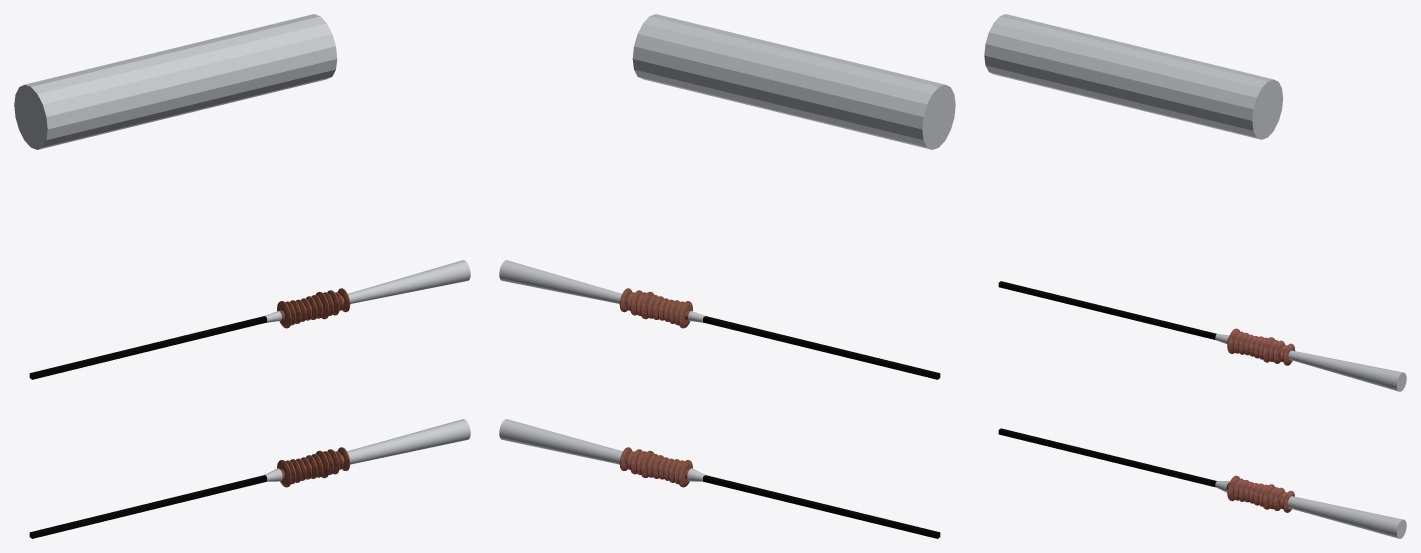
The model's file is moretop_-1.obj.
3 views of the same model, side by side, from view 1: azimuth 30°, elevation 25°; view 2: azimuth 150°, elevation 25°; view 3: azimuth 330°, elevation 25° (orthographic). The views are drawn at different scales.
Parts seen in each view (by area): view 1: zd, chain.002, chain.001; view 2: zd, chain.002, chain.001; view 3: zd, chain.002, chain.001.
Part boxes in pixels (<box>): zd: <box>14,14,337,149</box>; chain.002: <box>264,260,470,487</box>; chain.001: <box>29,316,266,538</box>; zd: <box>632,14,955,149</box>; chain.002: <box>499,260,705,487</box>; chain.001: <box>703,316,940,538</box>; zd: <box>984,14,1283,139</box>; chain.002: <box>1215,328,1406,538</box>; chain.001: <box>998,281,1228,489</box>.
Size of the model in its own units: 3 by 3.04 by 0.4.
Materials: 4 (4 with a texture image).
